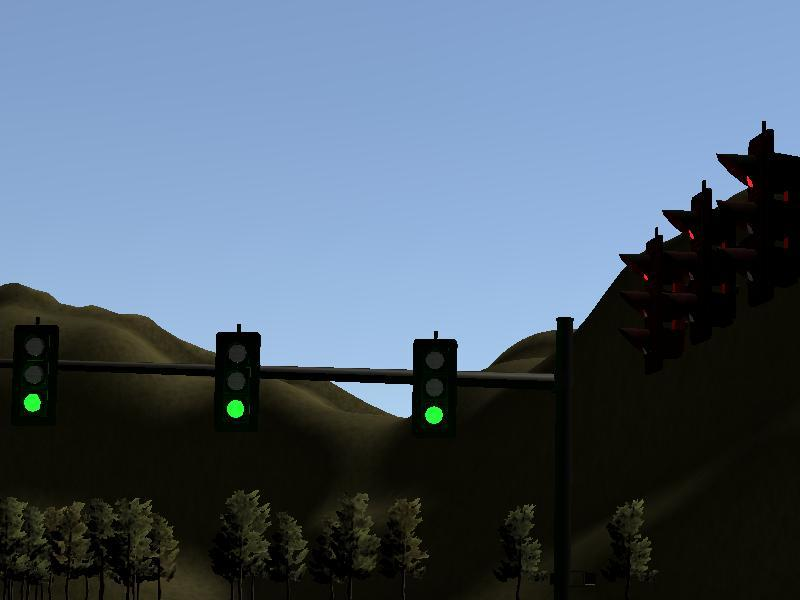Green: (12, 324, 57, 427), (411, 338, 456, 441), (215, 331, 260, 434)
